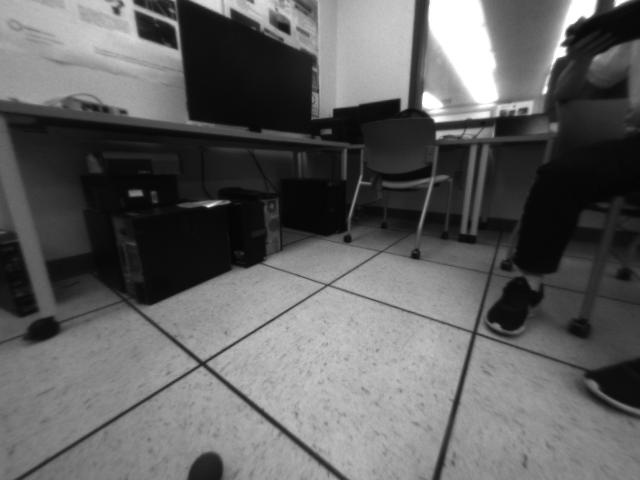dogtoy: (179, 438, 234, 480)
